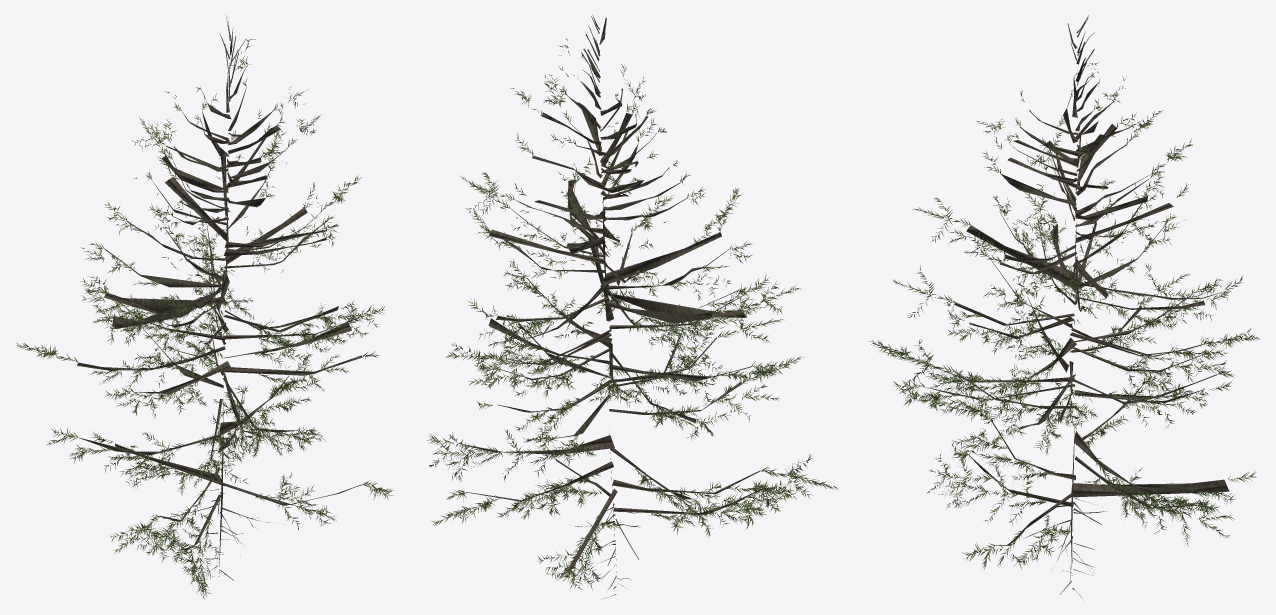
File: fir_medium_a_lodmid.gltf
3 views of the same model, side by side, from view 1: azimuth 30°, elevation 25°; view 2: azimuth 150°, elevation 25°; view 3: azimuth 270°, elevation 25° (orthographic). The views are drawn at different scales.
Visible parts, largest first — view 1: fir_sapling_medium_a_LOD0.002, fir_sapling_medium_a_LOD0.001; view 2: fir_sapling_medium_a_LOD0.002, fir_sapling_medium_a_LOD0.001; view 3: fir_sapling_medium_a_LOD0.002, fir_sapling_medium_a_LOD0.001.
Boxes of the visible parts, box(x1,y1,x2,y2) form: fir_sapling_medium_a_LOD0.002: box(16, 39, 393, 599); fir_sapling_medium_a_LOD0.001: box(77, 15, 362, 573); fir_sapling_medium_a_LOD0.002: box(426, 38, 838, 589); fir_sapling_medium_a_LOD0.001: box(459, 14, 760, 584); fir_sapling_medium_a_LOD0.002: box(869, 59, 1259, 569); fir_sapling_medium_a_LOD0.001: box(925, 15, 1229, 581).
Bounding box in the file's own units: 4.8 × 8.35 × 5.08.
Materials: 3 (3 with a texture image).
